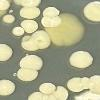white: (44, 13, 86, 47), (68, 49, 95, 70), (30, 28, 52, 51), (19, 53, 44, 70), (82, 0, 100, 22), (18, 34, 37, 54), (12, 68, 39, 82), (0, 78, 18, 98), (17, 7, 42, 19), (40, 16, 63, 29), (20, 19, 39, 34), (1, 42, 14, 63), (72, 91, 99, 100), (40, 6, 59, 18), (88, 75, 100, 94), (13, 0, 43, 7), (66, 76, 81, 90), (54, 84, 67, 100), (39, 82, 55, 94), (3, 13, 18, 25), (11, 25, 24, 37), (28, 92, 44, 100), (40, 92, 56, 100), (80, 77, 89, 90), (0, 0, 10, 11), (8, 9, 14, 14)
